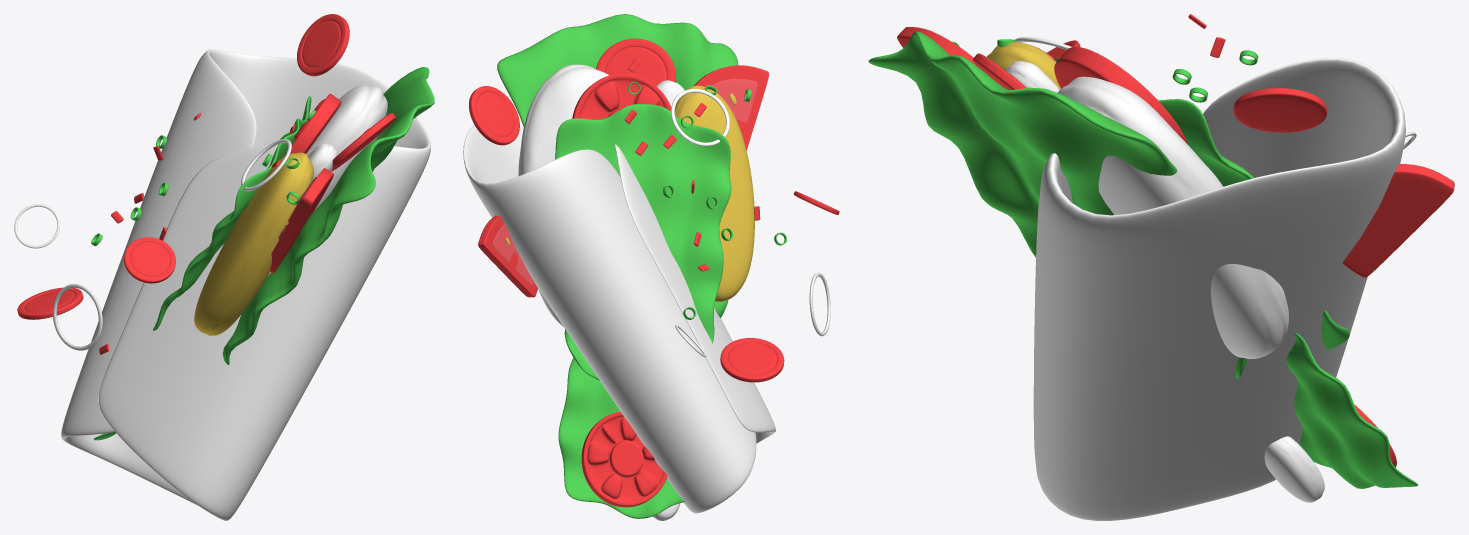
The model's file is burrito-3d-animated-icon-1554367833351.glb.
3 renders of one model, left to right at view 1: azimuth 30°, elevation 25°; view 2: azimuth 150°, elevation 25°; view 3: azimuth 270°, elevation 25°, orthographic. The views are drawn at different scales.
Parts seen in each view (by area): view 1: Cube, Cube.003, Plane, Cube.001, Plane.002, Cylinder.009, Cylinder.015, Cube.021, Cylinder.014, Cylinder, Cylinder.004, Cylinder.012 (+2 smaller); view 2: Cube, Plane.002, Plane, Cube.003, Cylinder.002, Plane.001, Cube.001, Cylinder, Cylinder.004, Cylinder.014, Cylinder.009, Cube.021 (+5 smaller); view 3: Cube, Plane, Cube.001, Plane.001, Cube.011, Cylinder.009, Plane.002, Cylinder, Cube.005, Cube.003, Cube.002, Cube.021 (+1 smaller).
Part boxes in pixels (x1,y1,x2,y2): Cube: (61, 49, 430, 520); Cube.003: (194, 152, 313, 335); Plane: (222, 67, 434, 364); Cube.001: (306, 85, 387, 210); Plane.002: (153, 96, 311, 330); Cylinder.009: (297, 14, 349, 76); Cylinder.015: (124, 237, 175, 283); Cube.021: (269, 168, 333, 273); Cylinder.014: (17, 287, 83, 319); Cylinder: (283, 93, 341, 156); Cylinder.004: (332, 113, 396, 171); Cylinder.012: (52, 284, 102, 350); Cube: (463, 113, 775, 513); Plane.002: (555, 104, 731, 380); Plane: (497, 14, 738, 317); Cube.003: (674, 85, 754, 301); Cylinder.002: (581, 411, 667, 507); Plane.001: (558, 358, 684, 518); Cube.001: (518, 64, 608, 327); Cylinder: (572, 73, 671, 119); Cylinder.004: (596, 38, 675, 85); Cylinder.014: (720, 338, 784, 382); Cylinder.009: (469, 86, 519, 145); Cube.021: (694, 65, 768, 150); Cube: (1033, 58, 1405, 520); Plane: (868, 31, 1247, 378); Cube.001: (1057, 76, 1288, 358); Plane.001: (1286, 333, 1417, 488); Cube.011: (1342, 164, 1454, 277); Cylinder.009: (1233, 88, 1326, 132); Plane.002: (1056, 57, 1350, 349); Cylinder: (1054, 46, 1187, 143); Cube.005: (1264, 436, 1324, 502); Cube.003: (987, 42, 1060, 89); Cube.002: (1005, 61, 1059, 92); Cube.021: (897, 27, 975, 64).
Bounding box in the file's own units: 4.8 × 5.29 × 4.97.
